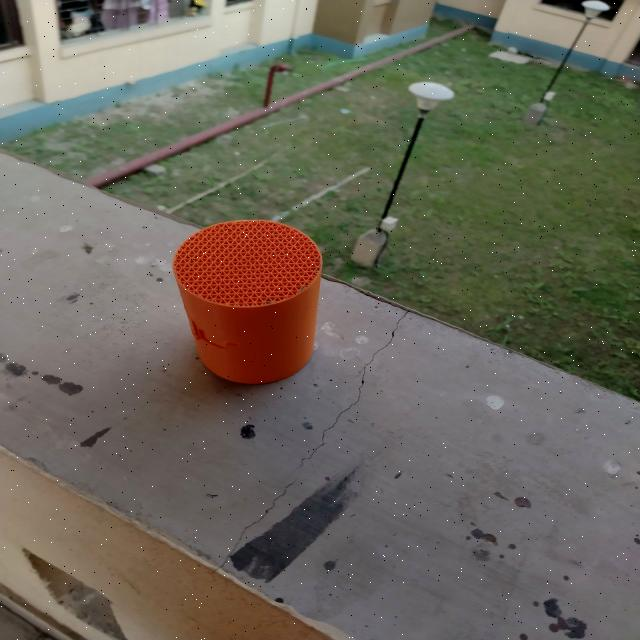Cylinder: (172, 218, 324, 384)
